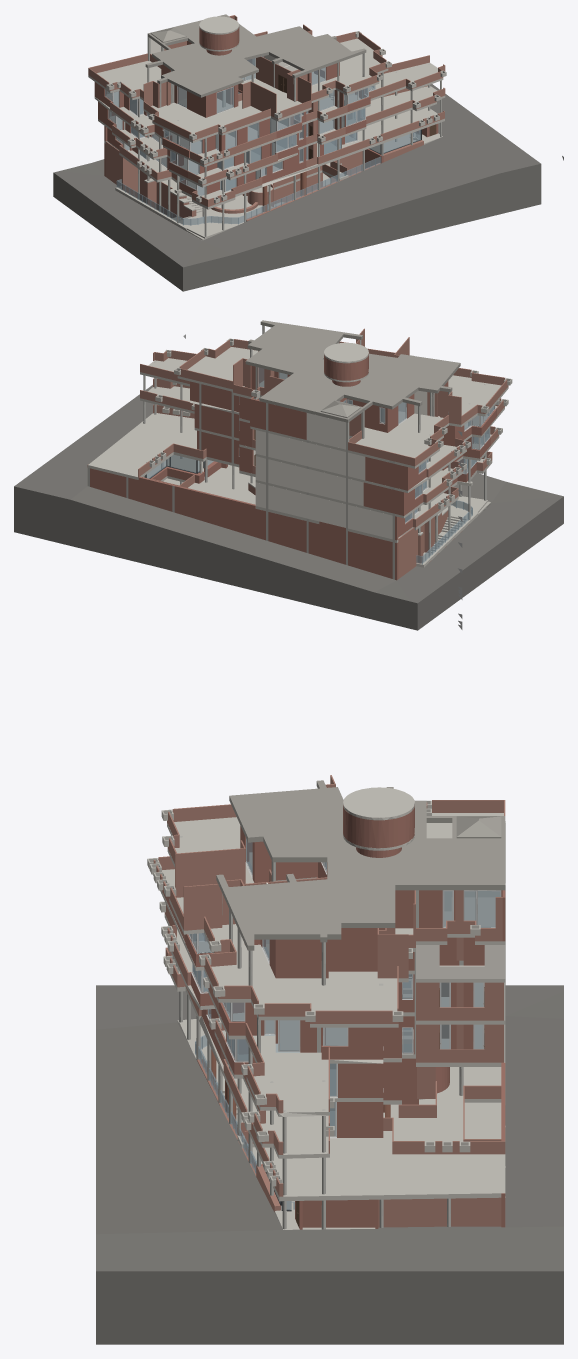
File: casa.glb
3 views of the same model, one above another, from view 1: azimuth 30°, elevation 25°; view 2: azimuth 150°, elevation 25°; view 3: azimuth 270°, elevation 25° (orthographic). The views are drawn at different scales.
Visible parts, largest first — view 1: Solido_topografico_Traiettoria___Asfalto_350_mm__1956631__12, Pavimento_Latero_Cementizio___30_cm__147194__1, Muro_di_base_parapetto___40_cm_2__161171__2, Gealan_S_9000_MD_800mm_x_2100mm_Finestra__214286__6, Tetto_di_base_Latero_Cementizio___40_cm__1576309__10, Muro_di_base_Tamponamento_Esterno___30_cm_2__165797__3, Pilastro_in_calcestruzzo___Circolare_300__190254__5, Famiglia34_Tipo_1__1580069__11, Muro_di_base_Tramezza___10_cm__178271__4; view 2: Solido_topografico_Traiettoria___Asfalto_350_mm__1956631__12, Muro_di_base_Tamponamento_Esterno___30_cm_2__165797__3, Pavimento_Latero_Cementizio___30_cm__147194__1, Tetto_di_base_Latero_Cementizio___40_cm__1576309__10, Muro_di_base_parapetto___40_cm_2__161171__2, Muro_di_base_Tramezza___10_cm__178271__4, Pilastro_in_calcestruzzo___Circolare_300__190254__5, Gealan_S_9000_MD_800mm_x_2100mm_Finestra__214286__6, Famiglia34_Tipo_1__1580069__11; view 3: Solido_topografico_Traiettoria___Asfalto_350_mm__1956631__12, Pavimento_Latero_Cementizio___30_cm__147194__1, Muro_di_base_parapetto___40_cm_2__161171__2, Tetto_di_base_Latero_Cementizio___40_cm__1576309__10, Muro_di_base_Tamponamento_Esterno___30_cm_2__165797__3, Gealan_S_9000_MD_800mm_x_2100mm_Finestra__214286__6, Pilastro_in_calcestruzzo___Circolare_300__190254__5, Famiglia34_Tipo_1__1580069__11, Muro_di_base_Tramezza___10_cm__178271__4.
Boxes of the visible parts, box(x1,y1,x2,y2) form: Solido_topografico_Traiettoria___Asfalto_350_mm__1956631__12: box(53, 84, 541, 291); Pavimento_Latero_Cementizio___30_cm__147194__1: box(88, 16, 445, 240); Muro_di_base_parapetto___40_cm_2__161171__2: box(88, 15, 445, 223); Gealan_S_9000_MD_800mm_x_2100mm_Finestra__214286__6: box(105, 56, 420, 225); Tetto_di_base_Latero_Cementizio___40_cm__1576309__10: box(145, 14, 366, 97); Muro_di_base_Tamponamento_Esterno___30_cm_2__165797__3: box(94, 15, 438, 194); Pilastro_in_calcestruzzo___Circolare_300__190254__5: box(107, 36, 441, 236); Famiglia34_Tipo_1__1580069__11: box(106, 31, 446, 203); Muro_di_base_Tramezza___10_cm__178271__4: box(150, 39, 354, 168); Solido_topografico_Traiettoria___Asfalto_350_mm__1956631__12: box(14, 385, 563, 630); Muro_di_base_Tamponamento_Esterno___30_cm_2__165797__3: box(87, 351, 496, 580); Pavimento_Latero_Cementizio___30_cm__147194__1: box(88, 342, 508, 567); Tetto_di_base_Latero_Cementizio___40_cm__1576309__10: box(245, 320, 460, 422); Muro_di_base_parapetto___40_cm_2__161171__2: box(138, 328, 508, 578); Muro_di_base_Tramezza___10_cm__178271__4: box(253, 373, 439, 539); Pilastro_in_calcestruzzo___Circolare_300__190254__5: box(87, 325, 486, 579); Gealan_S_9000_MD_800mm_x_2100mm_Finestra__214286__6: box(146, 367, 495, 564); Famiglia34_Tipo_1__1580069__11: box(146, 338, 512, 509); Solido_topografico_Traiettoria___Asfalto_350_mm__1956631__12: box(96, 985, 563, 1344); Pavimento_Latero_Cementizio___30_cm__147194__1: box(153, 787, 505, 1229); Muro_di_base_parapetto___40_cm_2__161171__2: box(153, 775, 505, 1227); Tetto_di_base_Latero_Cementizio___40_cm__1576309__10: box(216, 780, 505, 950); Muro_di_base_Tamponamento_Esterno___30_cm_2__165797__3: box(185, 805, 505, 1229); Gealan_S_9000_MD_800mm_x_2100mm_Finestra__214286__6: box(188, 838, 501, 1210); Pilastro_in_calcestruzzo___Circolare_300__190254__5: box(179, 821, 505, 1229); Famiglia34_Tipo_1__1580069__11: box(147, 800, 480, 1186); Muro_di_base_Tramezza___10_cm__178271__4: box(227, 862, 505, 1067).
Bounding box in the file's own units: 0.5 × 0.2232 × 0.3321.
